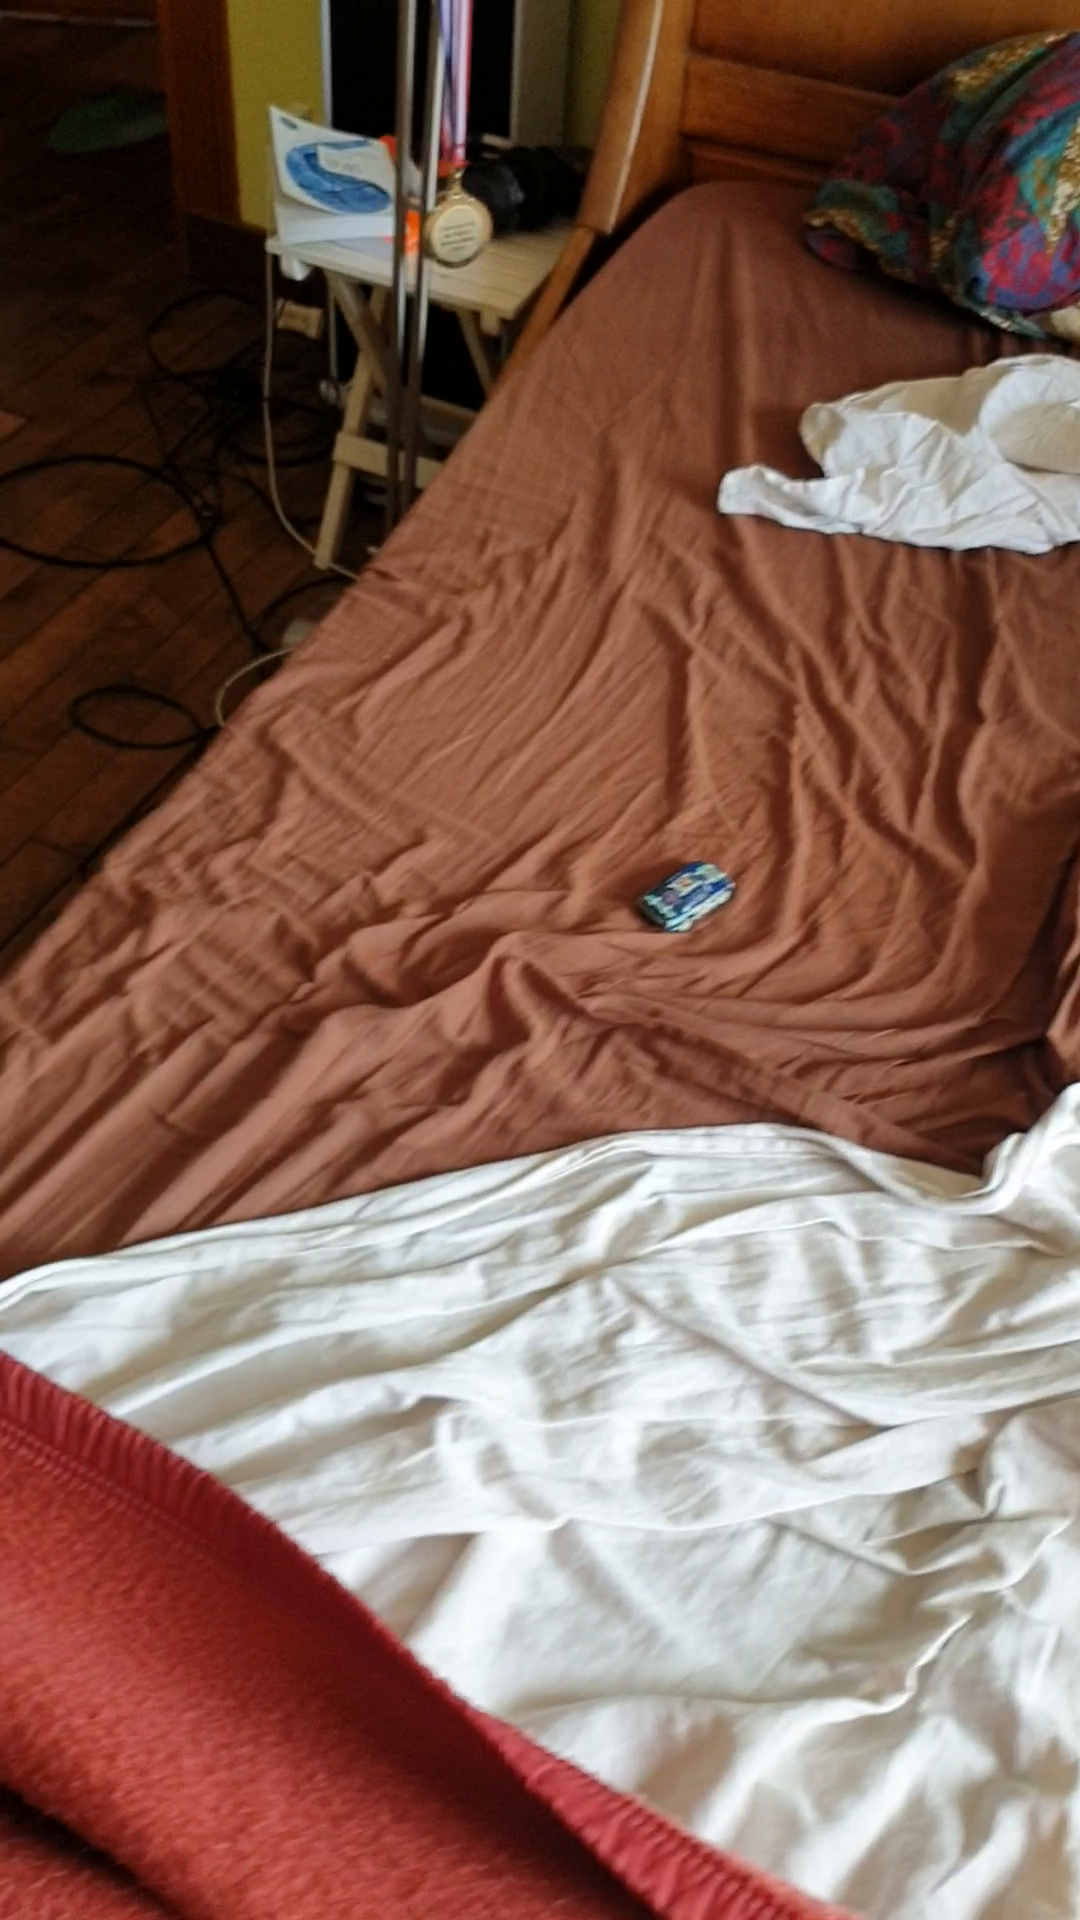cars: (637, 862, 735, 934)
